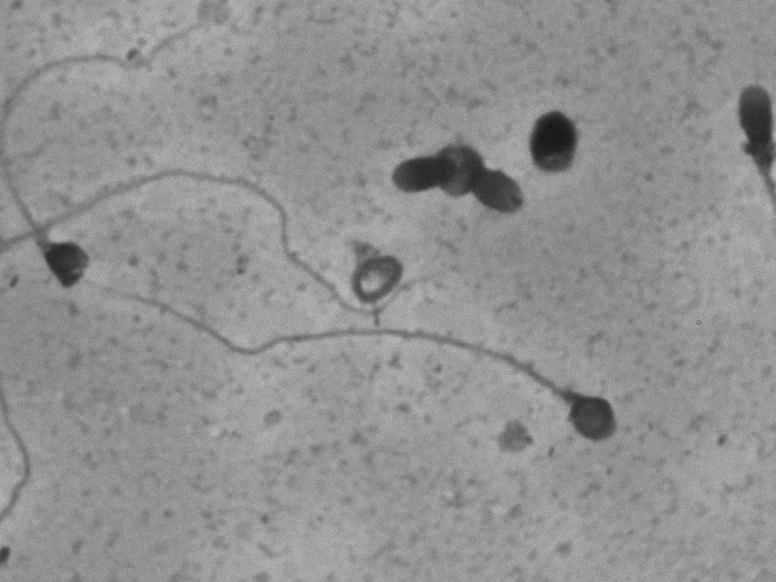Abnormal: (116, 251, 679, 473)
